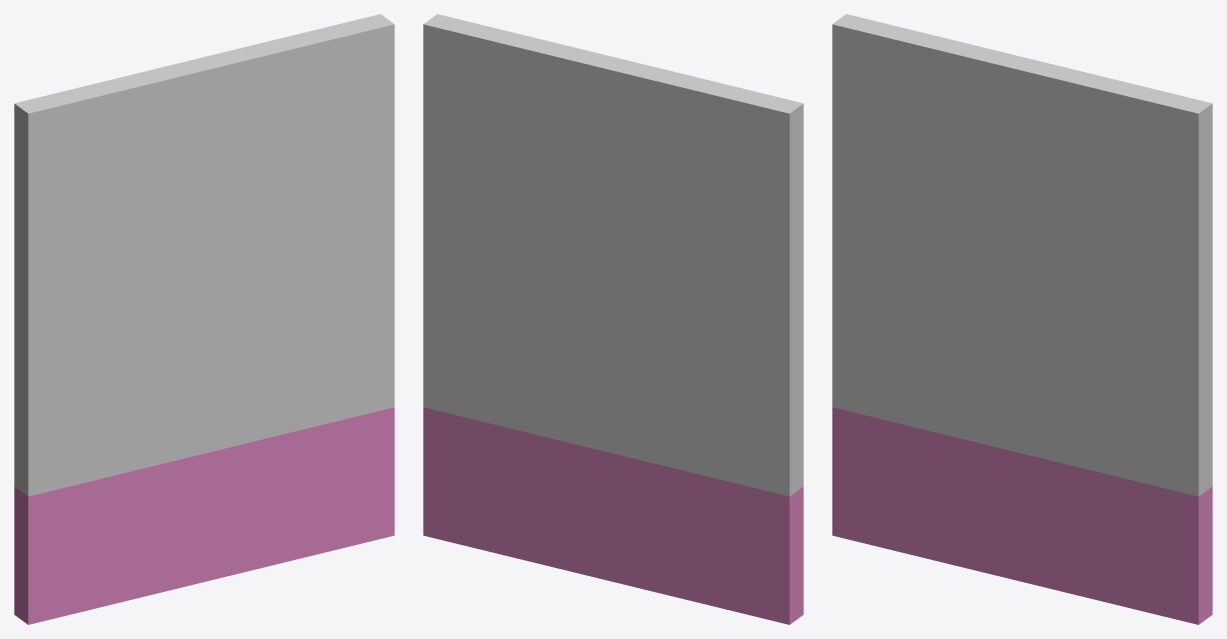
Rendered from WallOffice1.fbx.
3 views of the same model, side by side, from view 1: azimuth 30°, elevation 25°; view 2: azimuth 150°, elevation 25°; view 3: azimuth 330°, elevation 25° (orthographic).
Parts seen in each view (by area): view 1: Cube.011; view 2: Cube.011; view 3: Cube.011.
Part boxes in pixels (x1,y1,x2,y2): Cube.011: (14,14,394,624); Cube.011: (423,14,803,624); Cube.011: (832,14,1212,624).
Bounding box in the file's own units: 3 × 4 × 0.2001.
